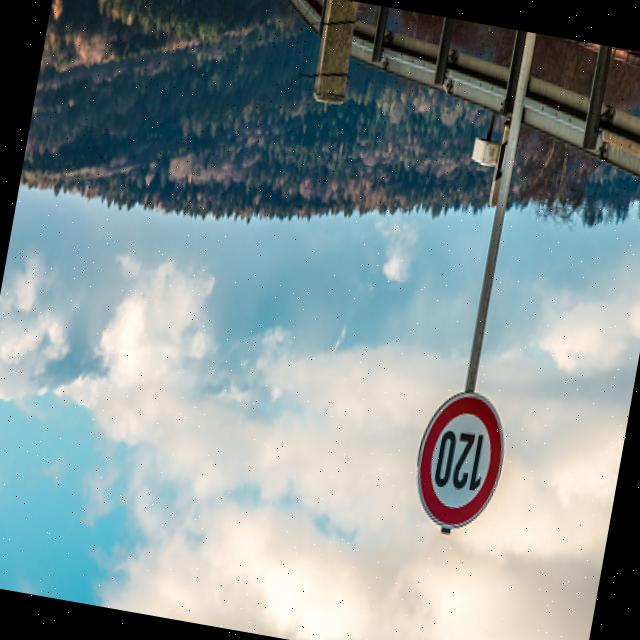speed_limit_120: (400, 377, 519, 542)
